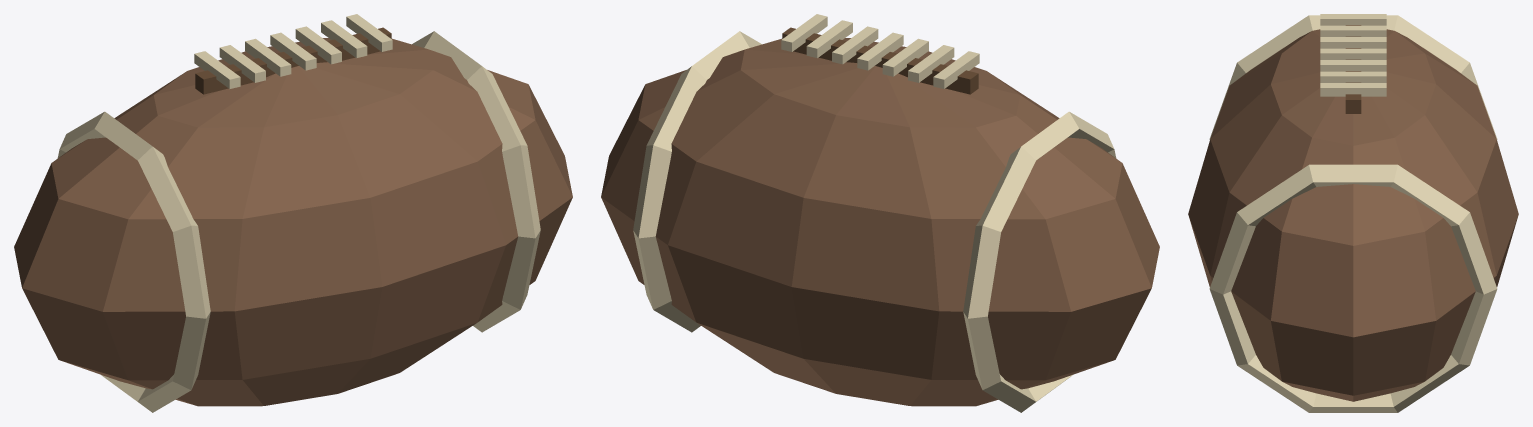
Rendered from b17_laced_american_football.glb.
3 renders of one model, left to right at view 1: azimuth 30°, elevation 25°; view 2: azimuth 150°, elevation 25°; view 3: azimuth 270°, elevation 25°, orthographic. The views are drawn at different scales.
Visible parts, largest first — view 1: b17_laced_american_football; view 2: b17_laced_american_football; view 3: b17_laced_american_football.
Part boxes in pixels (box(x1,y1,x2,y2)): b17_laced_american_football: box(14, 14, 572, 412); b17_laced_american_football: box(601, 14, 1159, 412); b17_laced_american_football: box(1188, 14, 1518, 412).
Bounding box in the file's own units: 0.3 × 0.1775 × 0.17.
